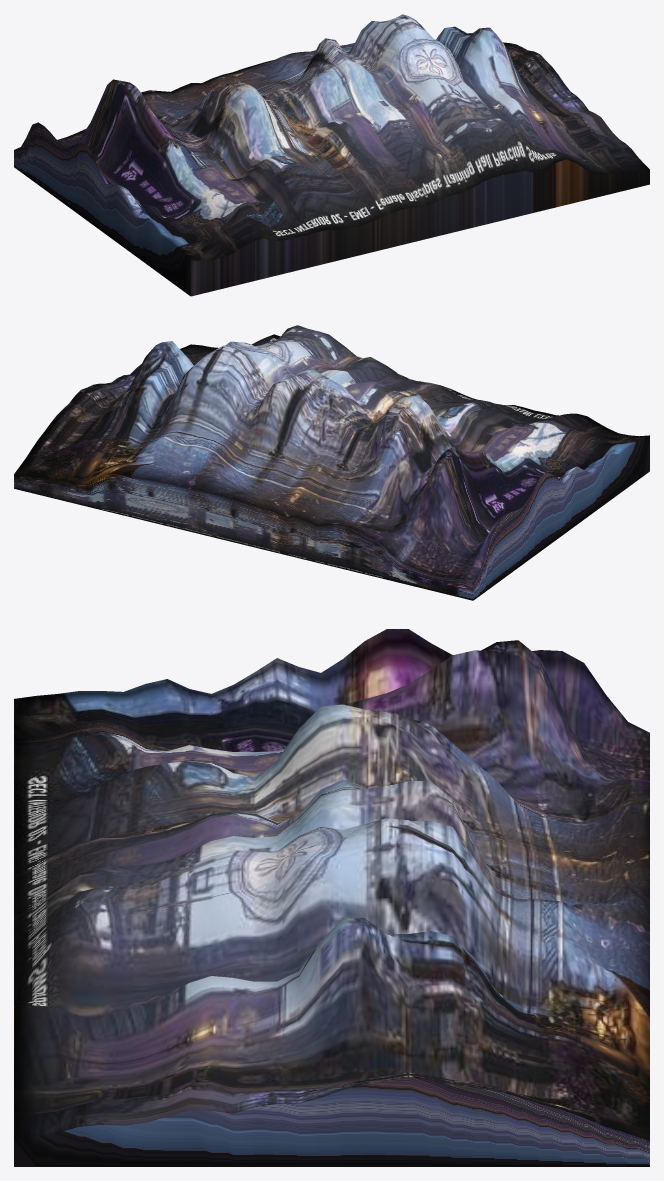
The model's file is SECT_INT_02_Emei.glb.
3 views of the same model, one above another, from view 1: azimuth 30°, elevation 25°; view 2: azimuth 150°, elevation 25°; view 3: azimuth 270°, elevation 25° (orthographic). The views are drawn at different scales.
Visible parts, largest first — view 1: SECT_INT_02_Emei; view 2: SECT_INT_02_Emei; view 3: SECT_INT_02_Emei.
Boxes of the visible parts, x1,y1,x2,y2 form: SECT_INT_02_Emei: (14,14,649,296); SECT_INT_02_Emei: (14,325,649,600); SECT_INT_02_Emei: (14,629,649,1166).
Bounding box in the file's own units: 2 × 0.51 × 1.33.
1 material, 1 textured.
